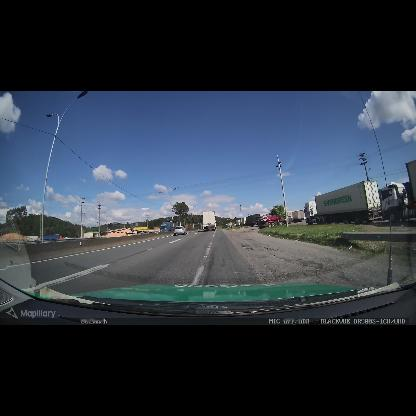O-MP: (230, 221, 232, 228)
R-19: (262, 215, 268, 221)
